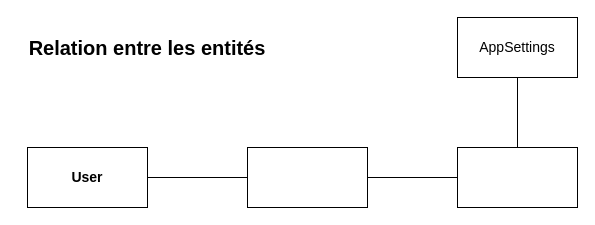
This 595x225 diagram has some shape labels left out. Here are the shapes that lost their labels. From the top down, the box of each, then its label:
(246, 146, 368, 208): UserSetting (value)
(456, 146, 578, 208): Settings
